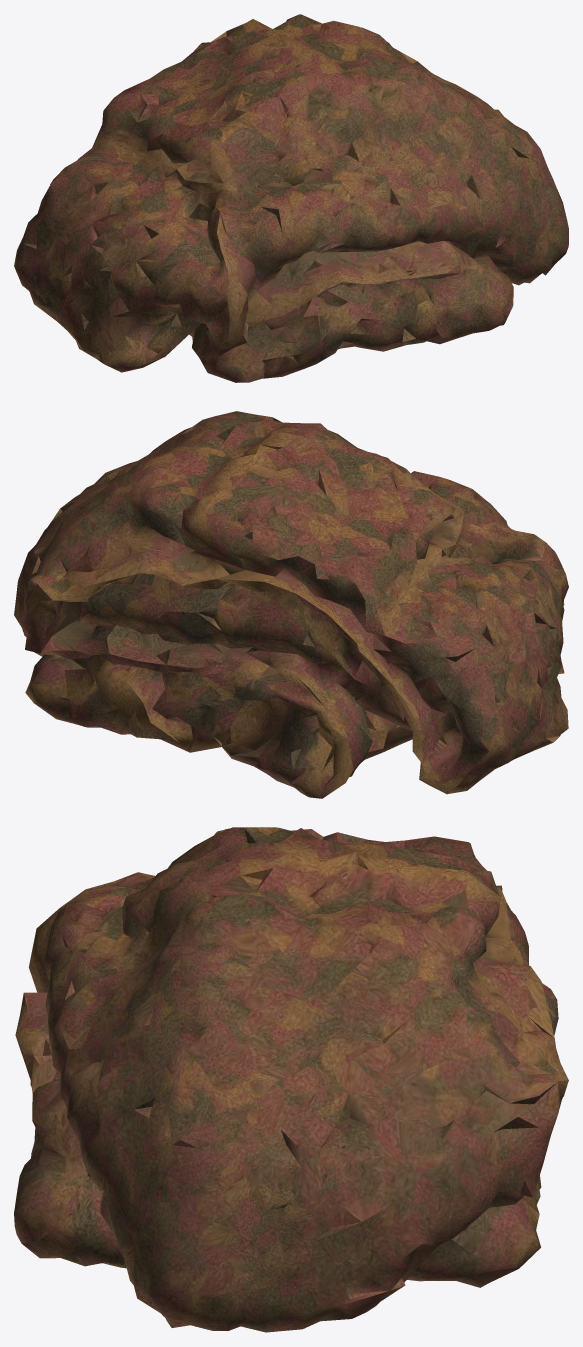
Rendered from p_knit_throw.glb.
3 renders of one model, top to bottom at view 1: azimuth 30°, elevation 25°; view 2: azimuth 150°, elevation 25°; view 3: azimuth 270°, elevation 25°, orthographic. The views are drawn at different scales.
Parts seen in each view (by area): view 1: p_knit_throw; view 2: p_knit_throw; view 3: p_knit_throw.
Part boxes in pixels (bbox=[...]): p_knit_throw: bbox=[14, 14, 568, 382]; p_knit_throw: bbox=[14, 411, 568, 798]; p_knit_throw: bbox=[14, 827, 568, 1332].
Size of the model in its own units: 0.409 by 0.2 by 0.2908.
Materials: 1 (1 with a texture image).
